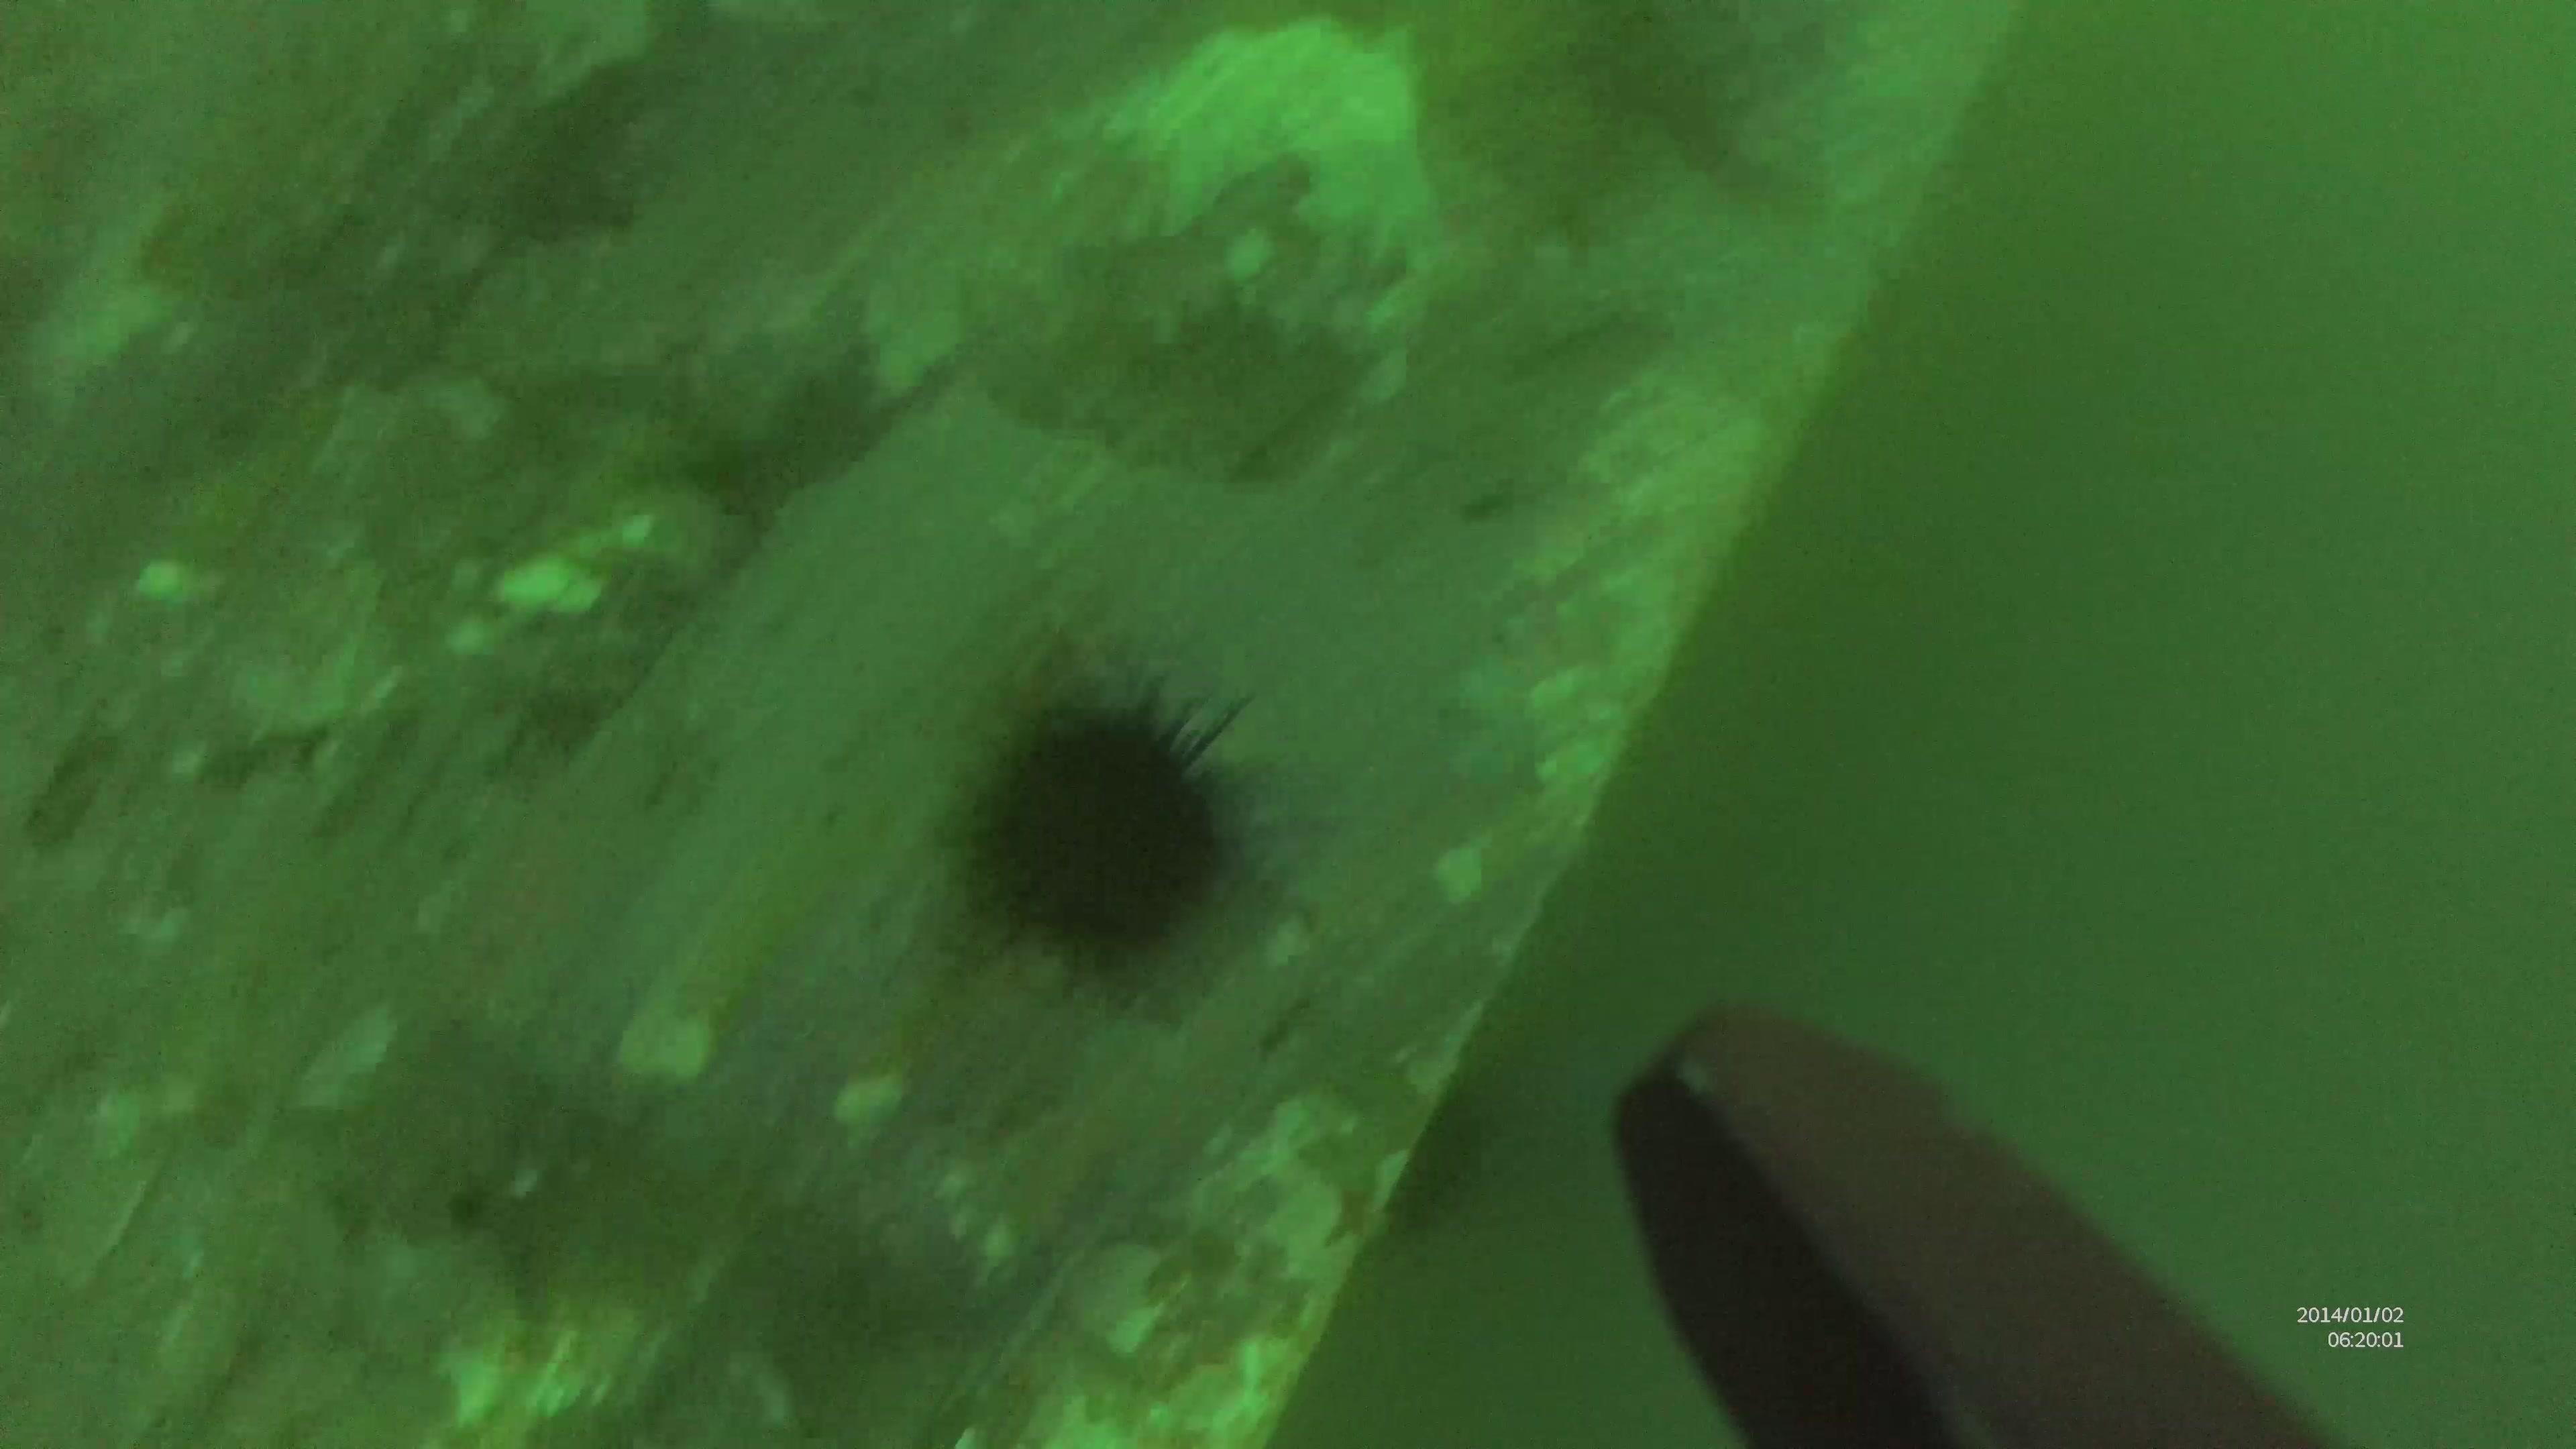echinus: (927, 674, 1235, 962)
